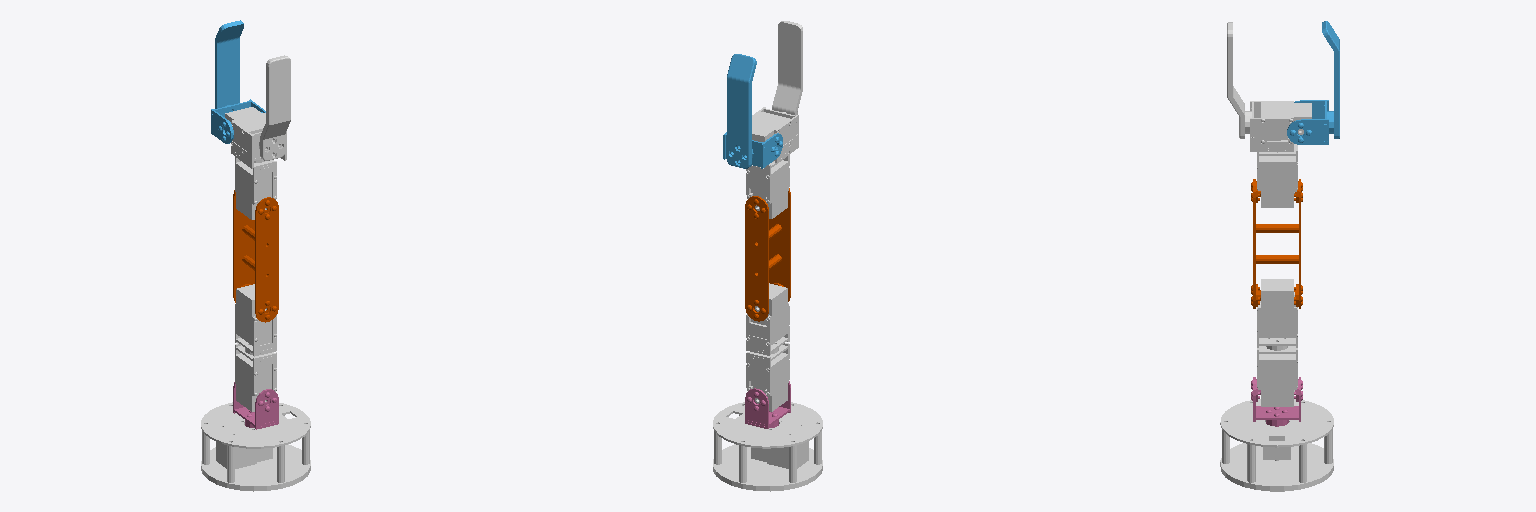
robot.urdf — arm4dof:
<?xml version="1.0" encoding="utf-8"?>
<robot name="arm4dof">

 <link name="world"/>

	<link name="finger">
		<inertial>
			<mass value="0.1620904614417843"/>
			<origin rpy="0 0 0" xyz="0.017572616560184332 0.02339311441352253 0.026468299189299327"/>
			<inertia ixx="0.00018855700831591377" ixy="-4.830126172258614e-07" ixz="-5.465079275041806e-07" iyy="0.000187250928272303" iyz="-2.5198409207287397e-05" izz="4.281226005568026e-05"/>
		</inertial>
		<collision name="finger_collision">
			<origin rpy="-2.775557561562892e-17 -0.0 -1.6653345369377348e-16" xyz="0.017899999999999687 -0.02061499999999994 -0.28825492591488516"/>
			<geometry>
				<mesh filename="package://arm4dof_description/meshes/finger.stl" scale="1.0 1.0 1.0"/>
			</geometry>
		</collision>
		<visual name="finger_visual">
			<origin rpy="-2.775557561562892e-17 -0.0 -1.6653345369377348e-16" xyz="0.017899999999999687 -0.02061499999999994 -0.28825492591488516"/>
			<geometry>
				<mesh filename="package://arm4dof_description/meshes/finger.stl" scale="1.0 1.0 1.0"/>
			</geometry>
		</visual>
	</link>
	<link name="hand">
		<inertial>
			<mass value="0.751568194075787"/>
			<origin rpy="0 0 0" xyz="-5.6146206526912286e-05 0.014623837021789394 0.050500760679562884"/>
			<inertia ixx="0.0011947772732698923" ixy="4.4418819288698735e-07" ixz="6.960611453683541e-07" iyy="0.0010027580082652434" iyz="0.00020241878082143146" izz="0.0002993282090664248"/>
		</inertial>
		<collision name="hand_collision">
			<origin rpy="-2.775557561562892e-17 -0.0 -1.6653345369377348e-16" xyz="1.7763104897573767e-13 0.017900074085115916 -0.2214699252666839"/>
			<geometry>
				<mesh filename="package://arm4dof_description/meshes/hand.stl" scale="1.0 1.0 1.0"/>
			</geometry>
		</collision>
		<visual name="hand_visual">
			<origin rpy="-2.775557561562892e-17 -0.0 -1.6653345369377348e-16" xyz="1.7763104897573767e-13 0.017900074085115916 -0.2214699252666839"/>
			<geometry>
				<mesh filename="package://arm4dof_description/meshes/hand.stl" scale="1.0 1.0 1.0"/>
			</geometry>
   <material name="gray_color">
    <color rgba="0.9 0.9 0.9 1"/>
   </material>
		</visual>
	</link>
	<link name="base_link">
		<inertial>
			<mass value="0.7502954240514383"/>
			<origin rpy="0 0 0" xyz="-0.004937927523443683 0.009208957460279816 -0.016228081827026272"/>
			<inertia ixx="0.0005378909087315135" ixy="-4.691853279065183e-09" ixz="2.725326277291962e-05" iyy="0.0005961167809316274" iyz="-4.538103118334469e-09" izz="0.0007381464012490534"/>
		</inertial>
		<collision name="base_collision">
			<origin rpy="-2.775557561562892e-17 -0.0 -1.6653345369377348e-16" xyz="-0.00011995981091706379 0.009207659539338428 0.0093276193502555"/>
			<geometry>
				<mesh filename="package://arm4dof_description/meshes/base.stl" scale="1.0 1.0 1.0"/>
			</geometry>
		</collision>
		<visual name="base_visual">
			<origin rpy="-2.775557561562892e-17 -0.0 -1.6653345369377348e-16" xyz="-0.00011995981091706379 0.009207659539338428 0.0093276193502555"/>
			<geometry>
				<mesh filename="package://arm4dof_description/meshes/base.stl" scale="1.0 1.0 1.0"/>
			</geometry>
   <material name="gray_color">
    <color rgba="0.9 0.9 0.9 1"/>
   </material>
		</visual>
	</link>

 <joint name="base_joint" type="fixed">
  <parent link="world"/>
  <child link="base_link"/>
 </joint>
 
	<link name="upperarm">
		<inertial>
			<mass value="0.6184540010783673"/>
			<origin rpy="0 0 0" xyz="-1.0714196999224435e-13 0.01776341798186061 0.045784999999999944"/>
			<inertia ixx="0.0007486047984566099" ixy="1.4292386718572913e-18" ixz="1.6409276715201315e-15" iyy="0.0007223304624224873" iyz="1.7329745102934168e-09" izz="8.920848606753288e-05"/>
		</inertial>
		<collision name="upperarm_collision">
			<origin rpy="-2.775557561562892e-17 -0.0 -1.6653345369377348e-16" xyz="-2.0395198117167945e-16 0.017900000000000315 -0.029899925266684148"/>
			<geometry>
				<mesh filename="package://arm4dof_description/meshes/upperarm.stl" scale="1.0 1.0 1.0"/>
			</geometry>
		</collision>
		<visual name="upperarm_visual">
			<origin rpy="-2.775557561562892e-17 -0.0 -1.6653345369377348e-16" xyz="-2.0395198117167945e-16 0.017900000000000315 -0.029899925266684148"/>
			<geometry>
				<mesh filename="package://arm4dof_description/meshes/upperarm.stl" scale="1.0 1.0 1.0"/>
			</geometry>
   <material name="gray_color">
    <color rgba="0.9 0.9 0.9 1"/>
   </material>
		</visual>
	</link>
	<link name="forearm">
		<inertial>
			<mass value="0.13426852980149212"/>
			<origin rpy="0 0 0" xyz="-1.2664836627346299e-16 0.017392442591640973 0.04999999999235616"/>
			<inertia ixx="0.00021911210365257503" ixy="3.8541023671123666e-17" ixz="3.37924133120282e-19" iyy="0.00017873496544186906" iyz="3.1463720517876937e-16" izz="5.0200976219413196e-05"/>
		</inertial>
		<collision name="forearm_collision">
			<origin rpy="-2.775557561562892e-17 -0.0 -1.6653345369377348e-16" xyz="1.7761173662454027e-13 0.017900074085116357 -0.12146992526668443"/>
			<geometry>
				<mesh filename="package://arm4dof_description/meshes/forearm.stl" scale="1.0 1.0 1.0"/>
			</geometry>
		</collision>
		<visual name="forearm_visual">
			<origin rpy="-2.775557561562892e-17 -0.0 -1.6653345369377348e-16" xyz="1.7761173662454027e-13 0.017900074085116357 -0.12146992526668443"/>
			<geometry>
				<mesh filename="package://arm4dof_description/meshes/forearm.stl" scale="1.0 1.0 1.0"/>
			</geometry>
		</visual>
	</link>
	<link name="shoulder">
		<inertial>
			<mass value="0.07247169619111539"/>
			<origin rpy="0 0 0" xyz="2.1224455264886037e-08 -0.00043686829965988196 0.015614732084708382"/>
			<inertia ixx="2.7250025071365297e-05" ixy="2.1242883253228678e-13" ixz="-6.3137054992588175e-12" iyy="1.3689070309561062e-05" iyz="3.4429038406645353e-07" izz="1.898341756723466e-05"/>
		</inertial>
		<collision name="shoulder_collision">
			<origin rpy="-2.775557561562892e-17 -0.0 -1.6653345369377348e-16" xyz="2.7934011985787112e-08 1.734723475976807e-18 0.00020007408511598865"/>
			<geometry>
				<mesh filename="package://arm4dof_description/meshes/shoulder.stl" scale="1.0 1.0 1.0"/>
			</geometry>
		</collision>
		<visual name="shoulder_visual">
			<origin rpy="-2.775557561562892e-17 -0.0 -1.6653345369377348e-16" xyz="2.7934011985787112e-08 1.734723475976807e-18 0.00020007408511598865"/>
			<geometry>
				<mesh filename="package://arm4dof_description/meshes/shoulder.stl" scale="1.0 1.0 1.0"/>
			</geometry>
		</visual>
	</link>
	<joint name="finger_joint" type="revolute">
		<parent link="hand"/>
		<child link="finger"/>
		<origin rpy="0 0 0" xyz="-0.017899999999822058 0.038515074085115855 0.06678500064820125"/>
		<axis xyz="-1.0000000000000007 -5.5511151231176124e-17 -7.216449660063521e-16"/>
  <limit lower="-0.785" upper="0.785" effort="30" velocity="0.785"/>
	</joint>
	<joint name="joint1" type="revolute">
		<parent link="forearm"/>
		<child link="hand"/>
		<origin rpy="0 0 0" xyz="-1.9312351197398048e-17 4.388850394221322e-16 0.09999999999999948"/>
		<axis xyz="5.469212746514901e-15 -0.9999999999999988 4.0132109545040804e-15"/>
  <limit lower="-2.355" upper="2.355" effort="30" velocity="2.355"/>
	</joint>
	<joint name="joint2" type="revolute">
		<parent link="upperarm"/>
		<child link="forearm"/>
		<origin rpy="0 0 0" xyz="-1.7781568860571195e-13 -7.408511604189982e-08 0.09157000000000029"/>
		<axis xyz="-4.56250541873071e-15 -0.9999999999999984 4.013210954504077e-15"/>
  <limit lower="-2.355" upper="2.355" effort="30" velocity="2.355"/>
	</joint>
	<joint name="joint3" type="revolute">
		<parent link="shoulder"/>
		<child link="upperarm"/>
		<origin rpy="0 0 0" xyz="2.7934012189739094e-08 -0.01790000000000031 0.030099999351800136"/>
		<axis xyz="4.9960036108131995e-16 -0.9999999999999996 1.1662307446965333e-14"/>
  <limit lower="-2.355" upper="2.355" effort="30" velocity="2.355"/>
	</joint>
	<joint name="joint4" type="revolute">
		<parent link="base_link"/>
		<child link="shoulder"/>
		<origin rpy="0 0 0" xyz="-0.00011998774492904957 0.009207659539338426 0.009127545265139512"/>
		<axis xyz="1.1102230246251564e-16 -2.7660707925536432e-17 0.9999999999999997"/>
  <limit lower="-3.14" upper="3.14" effort="30" velocity="3.14"/>
	</joint>

 <transmission name="tran1">
  <type>transmission_interface/SimpleTransmission</type>
  <joint name="joint1">
   <hardwareInterface>hardware_interface/PositionJointInterface</hardwareInterface>
  </joint>
  <actuator name="motor1">
   <hardwareInterface>PositionJointInterface</hardwareInterface>
   <mechanicalReduction>1</mechanicalReduction>
  </actuator>
 </transmission>
               
 <transmission name="tran2">
  <type>transmission_interface/SimpleTransmission</type>
  <joint name="joint2">
   <hardwareInterface>hardware_interface/PositionJointInterface</hardwareInterface>
  </joint>
  <actuator name="motor2">
   <hardwareInterface>PositionJointInterface</hardwareInterface>
   <mechanicalReduction>1</mechanicalReduction>
  </actuator>
 </transmission>
               
 <transmission name="tran3">
  <type>transmission_interface/SimpleTransmission</type>
  <joint name="joint3">
   <hardwareInterface>hardware_interface/PositionJointInterface</hardwareInterface>
  </joint>
  <actuator name="motor3">
   <hardwareInterface>PositionJointInterface</hardwareInterface>
   <mechanicalReduction>1</mechanicalReduction>
  </actuator>
 </transmission>
               
 <transmission name="tran4">
  <type>transmission_interface/SimpleTransmission</type>
  <joint name="joint4">
   <hardwareInterface>hardware_interface/PositionJointInterface</hardwareInterface>
  </joint>
  <actuator name="motor4">
   <hardwareInterface>PositionJointInterface</hardwareInterface>
   <mechanicalReduction>1</mechanicalReduction>
  </actuator>
 </transmission>
               
 <transmission name="tran5">
  <type>transmission_interface/SimpleTransmission</type>
  <joint name="finger_joint">
   <hardwareInterface>hardware_interface/PositionJointInterface</hardwareInterface>
  </joint>
  <actuator name="motor5">
   <hardwareInterface>PositionJointInterface</hardwareInterface>
   <mechanicalReduction>1</mechanicalReduction>
  </actuator>
 </transmission>
               
 <gazebo>
  <plugin name="control" filename="libgazebo_ros_control.so"/>
 </gazebo>

 <gazebo>
  <plugin name="joint_state_publisher"
          filename="libgazebo_ros_joint_state_publisher.so">
    <jointName>joint1, joint2, joint3, joint4, finger_joint</jointName>
  </plugin>
 </gazebo>

</robot>

--- Facts derived from the render (not from the file) ---
Views: 3 orthographic renders of the robot side by side, from view 1: azimuth 30°, elevation 25°; view 2: azimuth 150°, elevation 25°; view 3: azimuth 270°, elevation 25°.
Model arm4dof with 7 links and 6 joints (5 revolute, 1 fixed), rooted at world, posed every joint at zero.
Links seen in each view (by area): view 1: base_link, hand, forearm, upperarm, finger, shoulder; view 2: base_link, hand, forearm, upperarm, finger, shoulder; view 3: base_link, hand, upperarm, finger, forearm, shoulder.
Link boxes in pixels (<box>): base_link: <box>201,402,310,491</box>; hand: <box>225,55,290,219</box>; forearm: <box>233,190,278,322</box>; upperarm: <box>235,284,276,411</box>; finger: <box>211,20,265,143</box>; shoulder: <box>233,382,278,429</box>; base_link: <box>713,402,822,491</box>; hand: <box>746,21,802,218</box>; forearm: <box>745,188,790,321</box>; upperarm: <box>746,283,789,411</box>; finger: <box>723,54,782,168</box>; shoulder: <box>745,381,790,428</box>; base_link: <box>1220,399,1333,491</box>; hand: <box>1227,22,1311,207</box>; upperarm: <box>1257,279,1297,406</box>; finger: <box>1287,21,1339,144</box>; forearm: <box>1251,179,1302,308</box>; shoulder: <box>1251,377,1302,426</box>.
Size in the robot's own frame: 0.1 by 0.1045 by 0.428 metres.
6 mesh visuals loaded from 6 distinct referenced files (6 binary STL).